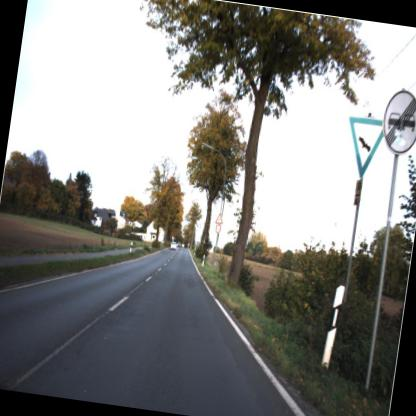danger: (211, 208, 226, 226)
other: (372, 86, 415, 162)
prohibitory: (211, 222, 225, 235)
